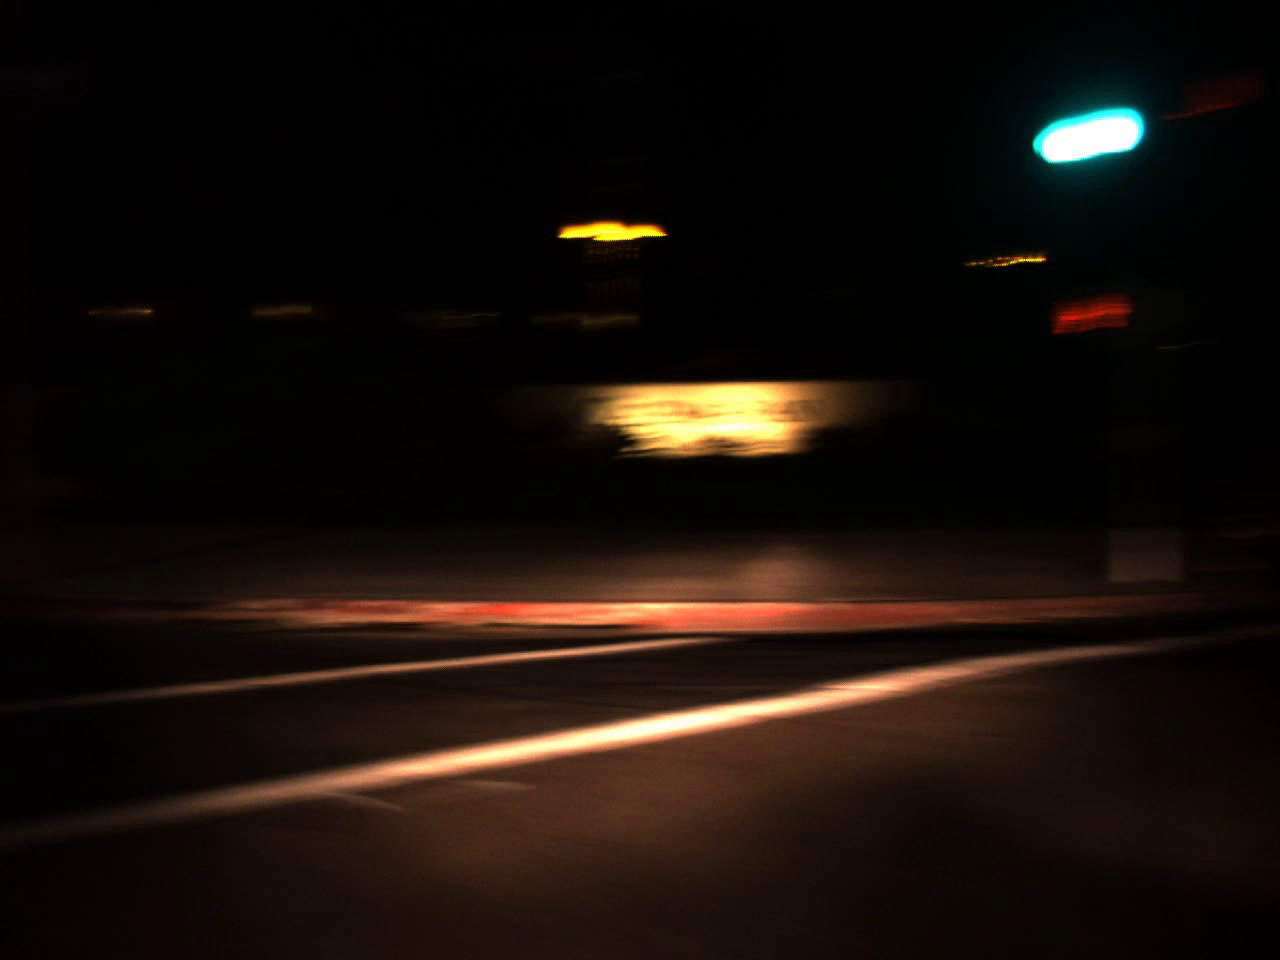go: (1016, 51, 1161, 177)
